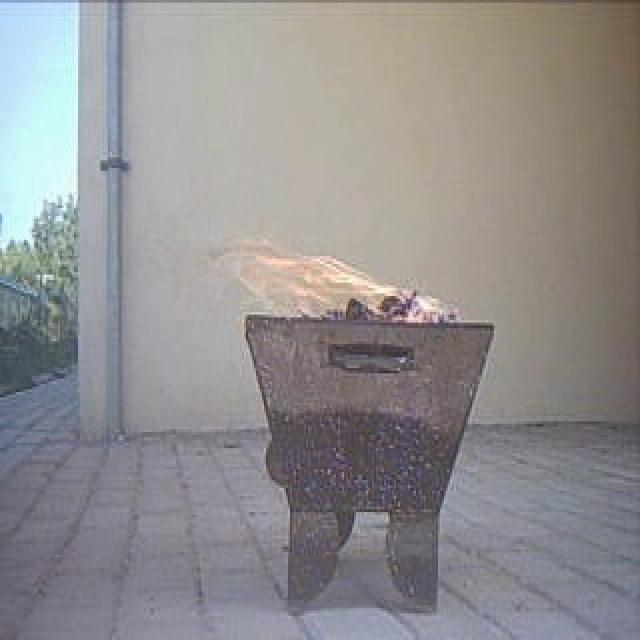fire: (227, 222, 457, 349)
